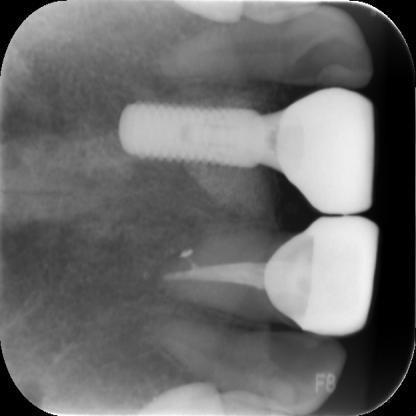ITI: (117, 71, 265, 193)
